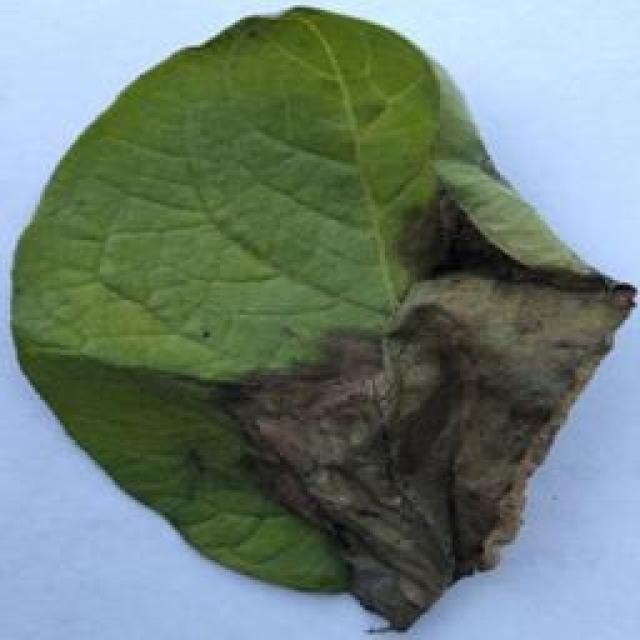Potato_Late_Blight: (1, 8, 632, 633)
